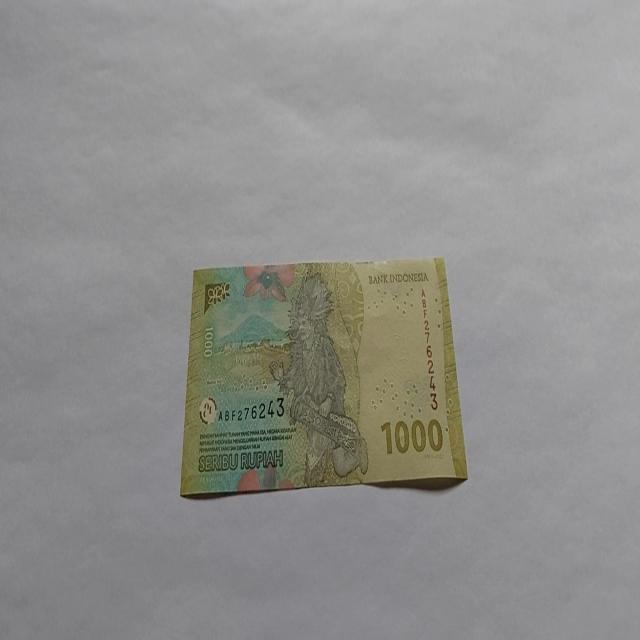seribu rupiah kertas: (179, 256, 468, 498)
